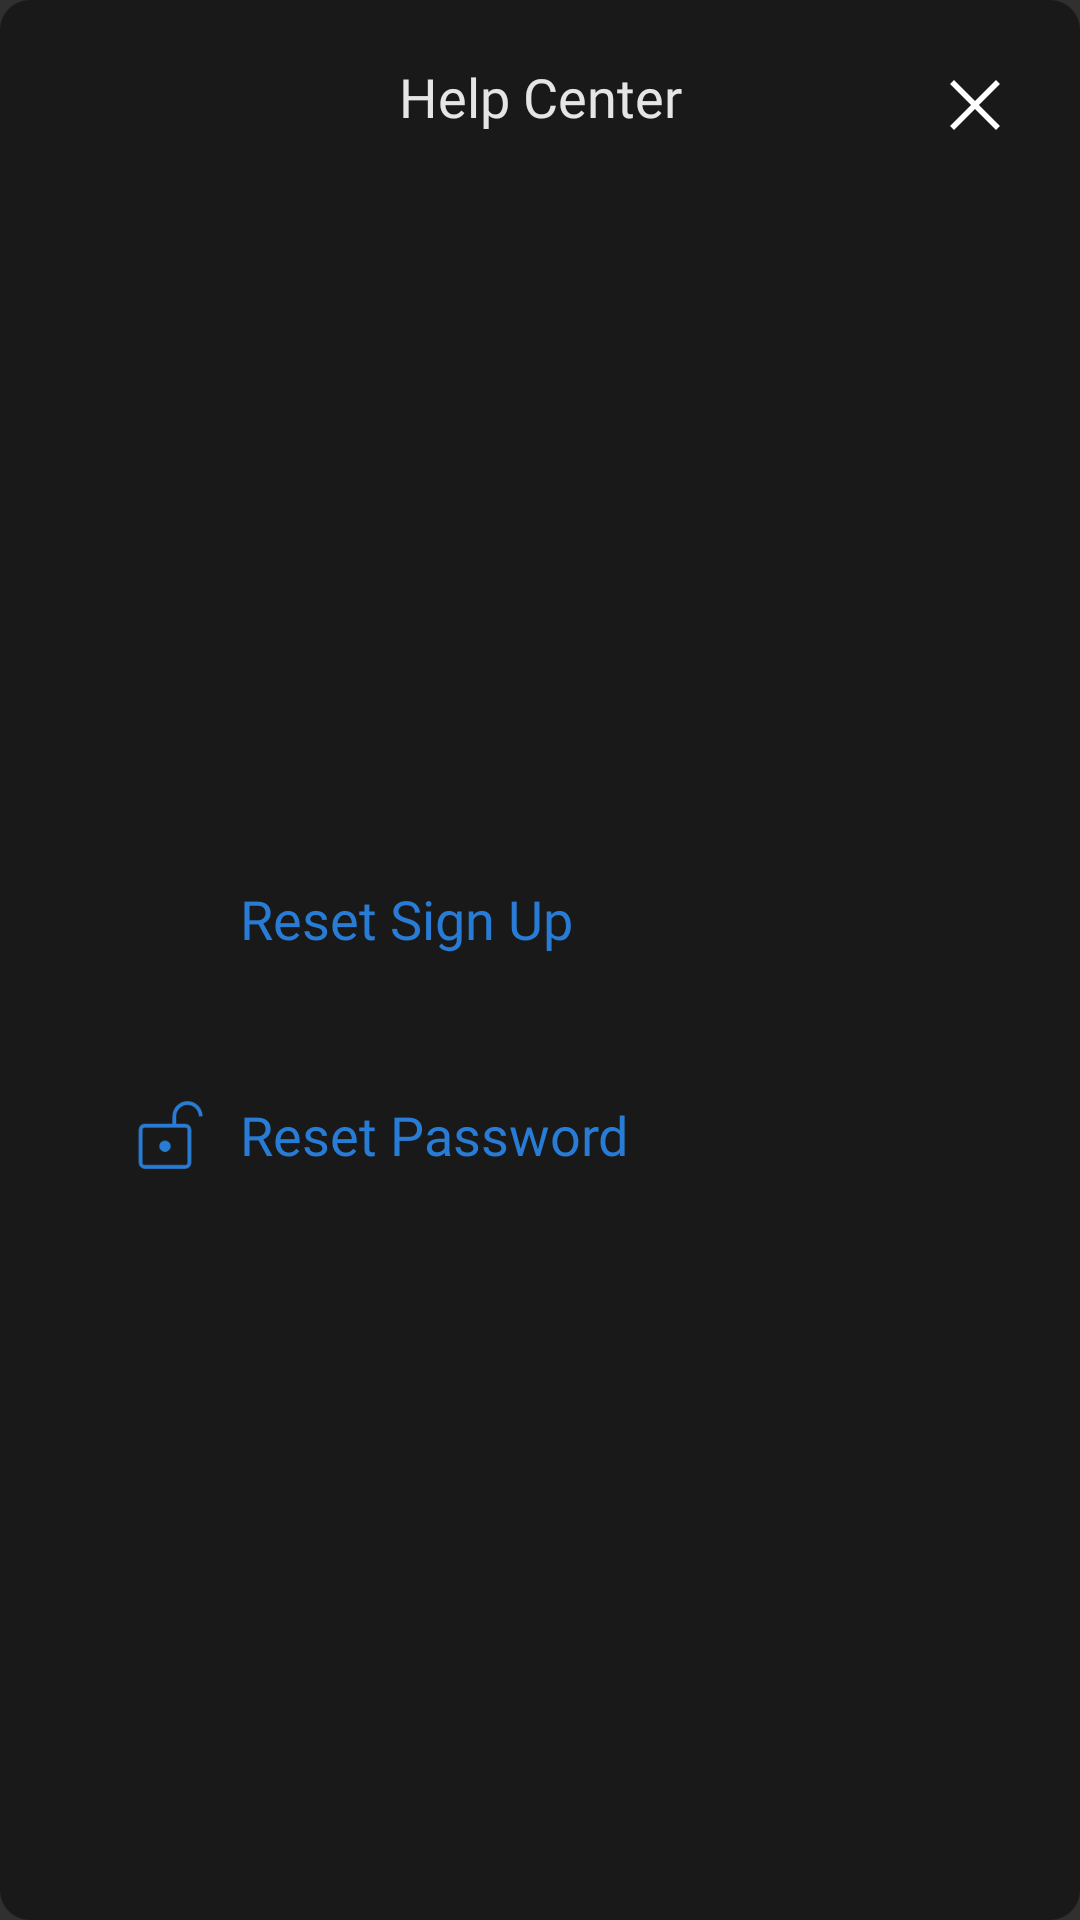

Screen size 1080 × 1920. Icon name, then its center in pixels as [x,y]:
close: [975,105]
reset pw: [170,1135]
